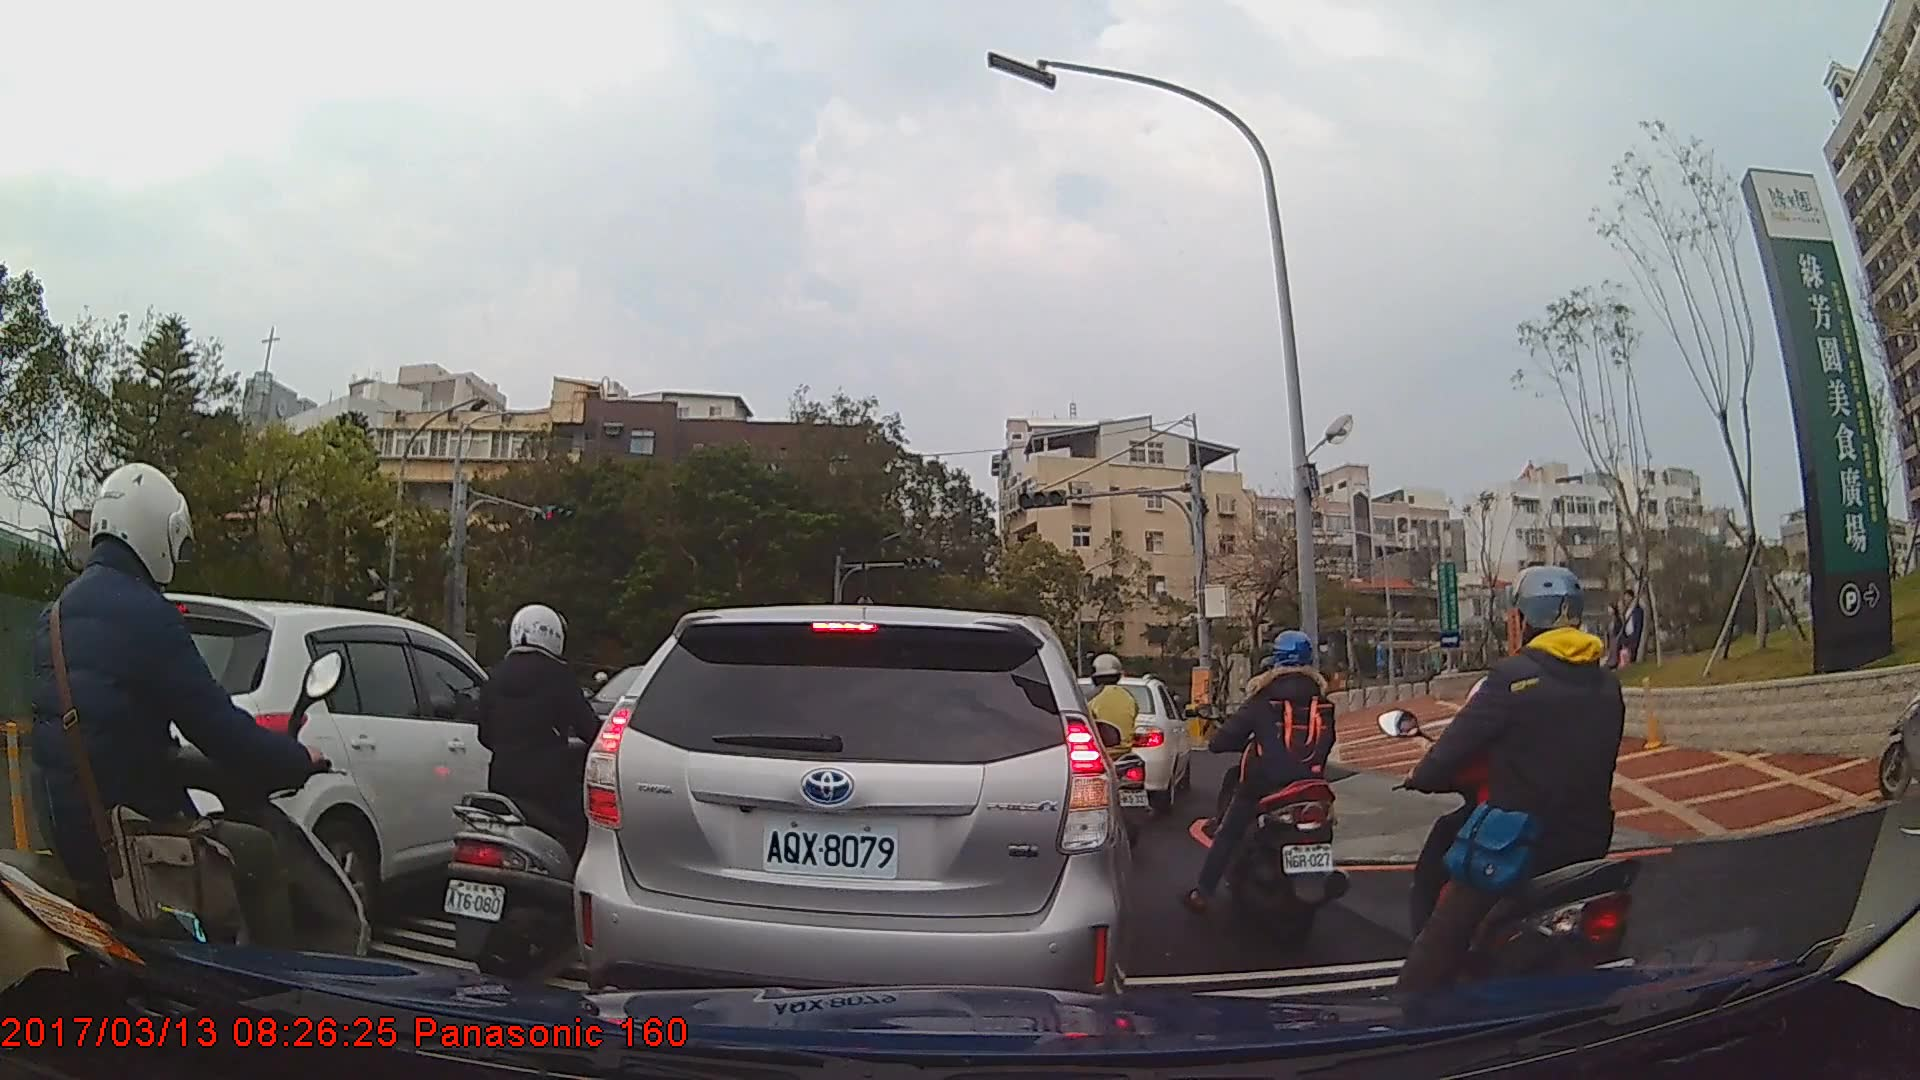pedestrian: (1612, 582, 1654, 676), (1594, 594, 1631, 685)
rider: (5, 465, 365, 1062), (1377, 567, 1648, 1037), (441, 602, 641, 978), (1182, 625, 1363, 949), (1059, 652, 1151, 847)
vehicle: (568, 601, 1139, 1033), (40, 591, 572, 930)
